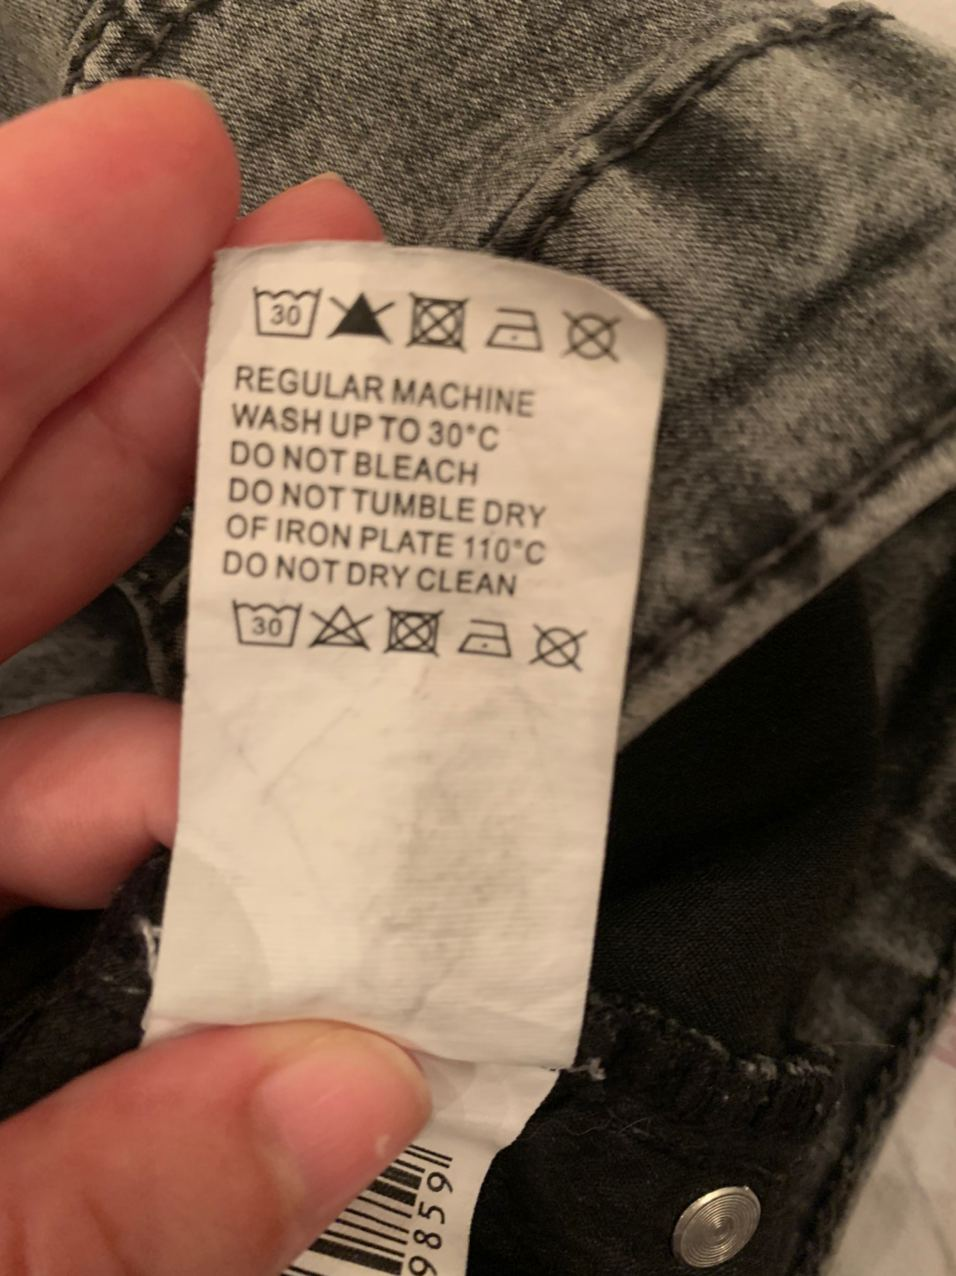do_not_bleach: (322, 286, 400, 345), (307, 599, 378, 655)
do_not_dry_clean: (557, 311, 627, 365), (525, 621, 592, 676)
do_not_tumble_drying: (401, 289, 474, 356), (379, 602, 448, 661)
ironing_at_low_temp: (482, 302, 549, 356), (454, 613, 517, 661)
wash_at_or_below_30: (248, 282, 325, 341), (228, 597, 306, 650)
